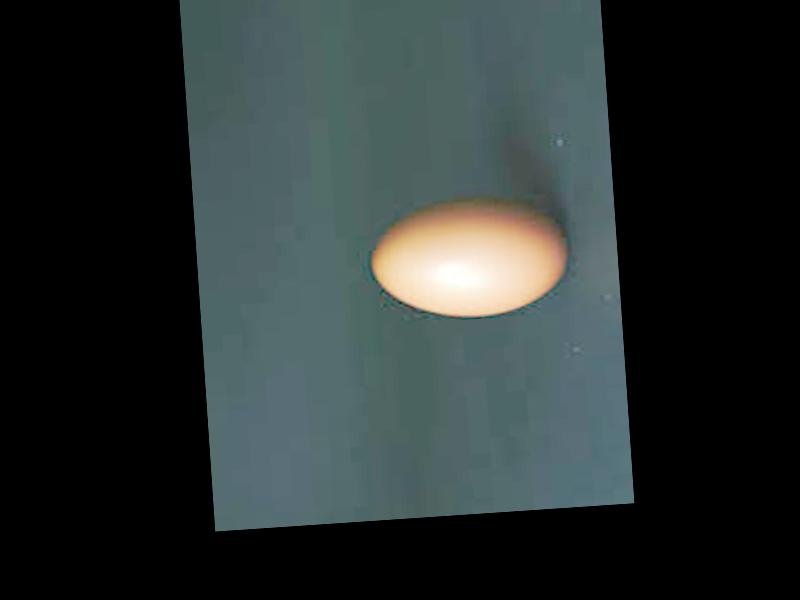Eggs: (369, 196, 571, 321)
